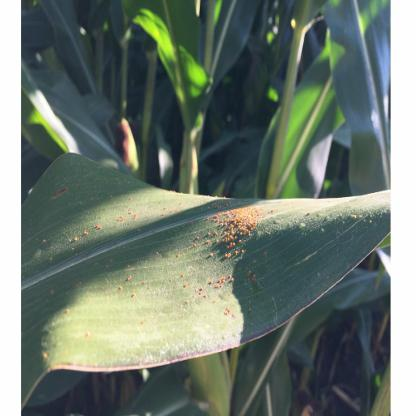Corn rust leaf: (22, 146, 391, 375)
